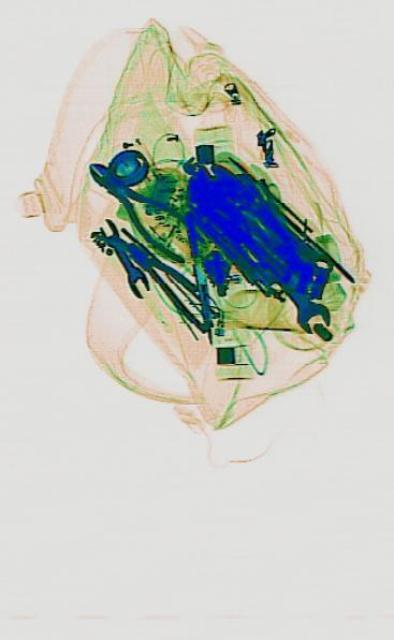Pliers: (78, 141, 205, 277), (121, 228, 211, 332)
Wrench: (250, 234, 331, 346), (95, 210, 150, 302)
